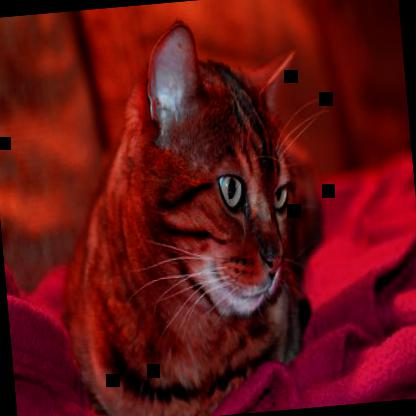cat: (38, 10, 328, 415)
